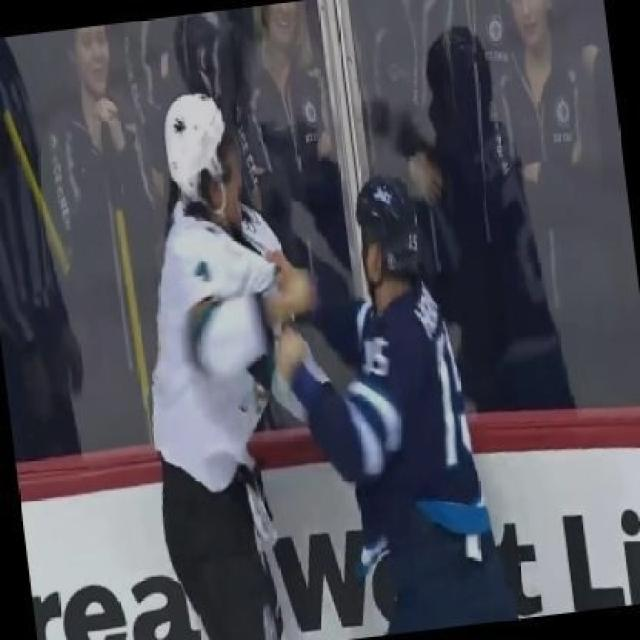fight: (70, 60, 536, 638)
